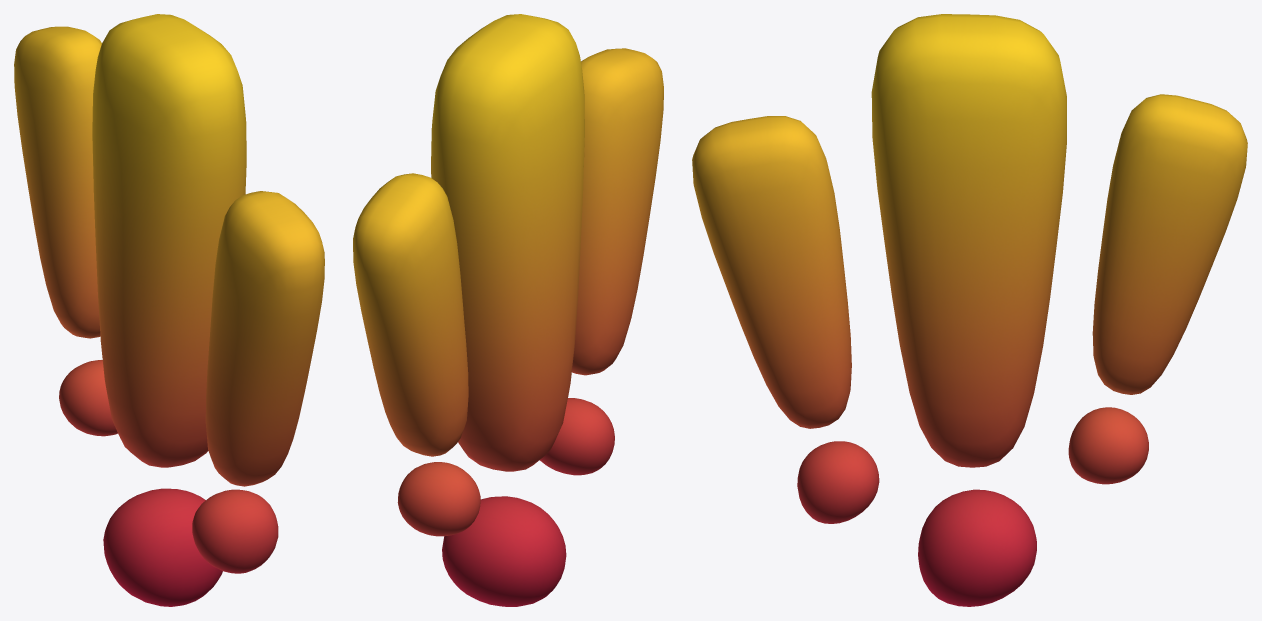
File: ExclamationMarkTriple.dae
The picture shows the model from 3 angles, left to right: view 1: azimuth 30°, elevation 25°; view 2: azimuth 150°, elevation 25°; view 3: azimuth 270°, elevation 25°; orthographic projection.
Visible parts, largest first — view 1: Cube_002; view 2: Cube_002; view 3: Cube_002.
Part boxes in pixels (bbox=[...]): Cube_002: bbox=[14, 14, 324, 606]; Cube_002: bbox=[353, 14, 663, 606]; Cube_002: bbox=[692, 14, 1247, 606].
Bounding box in the file's own units: 0.5834 × 2.39 × 2.73.
1 material, 1 textured.
